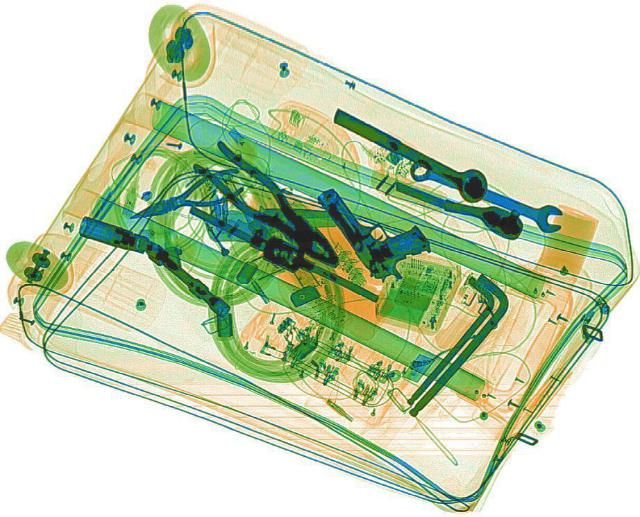Gun: (310, 168, 440, 285)
Pliers: (182, 134, 356, 277), (122, 164, 252, 231)
Wrench: (400, 157, 572, 235)
